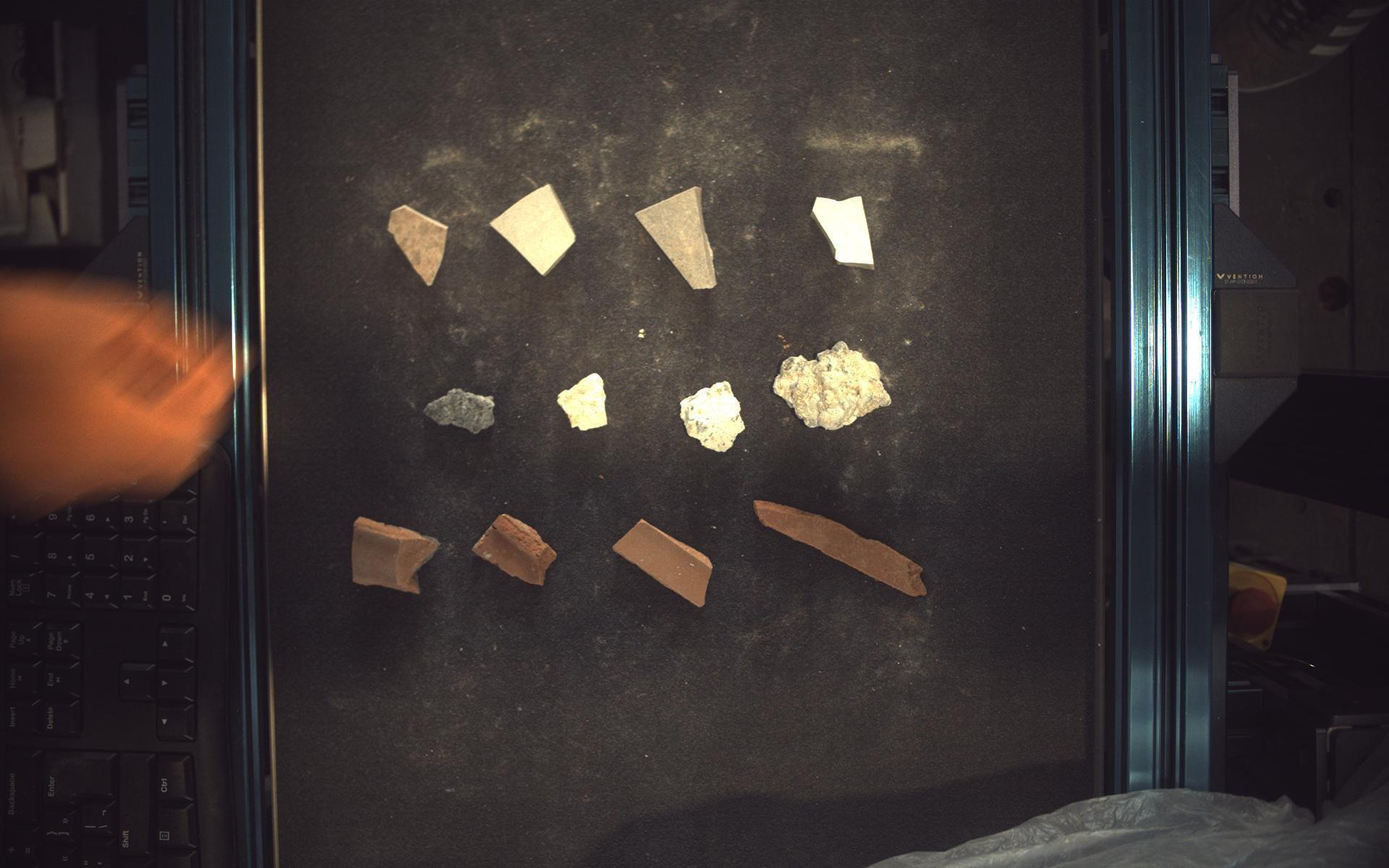brick: (755, 502, 929, 597), (614, 519, 714, 608), (353, 518, 440, 594), (472, 514, 557, 587)
concrete: (774, 341, 893, 430), (681, 381, 747, 452), (424, 388, 495, 434), (558, 373, 608, 431)
tile: (636, 186, 718, 289), (490, 184, 577, 274), (388, 205, 448, 285), (814, 196, 875, 268)
